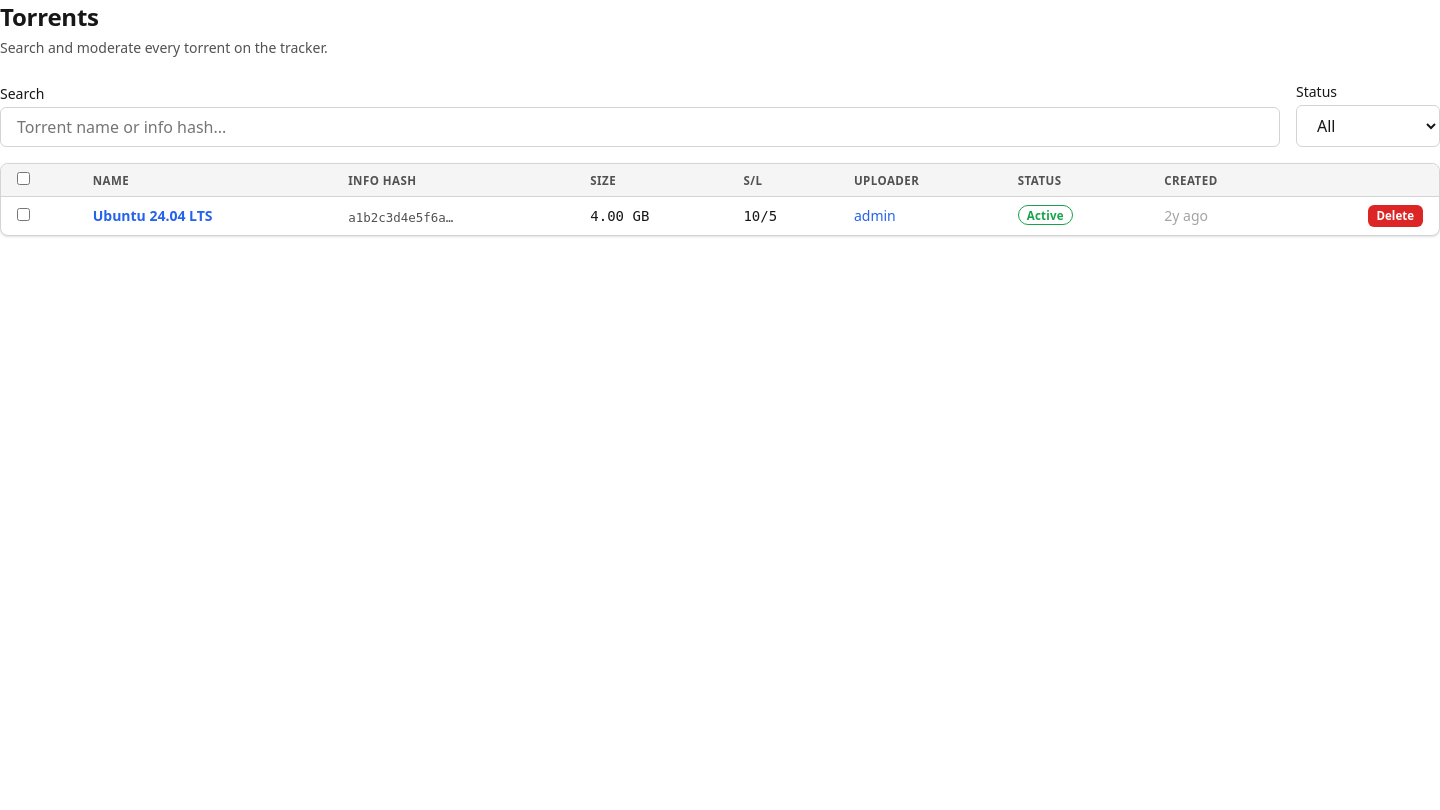
it: AdminTorrentsPage › a rejected bulk request surfaces the server's reason
expect the link "Ubuntu 24.04 LTS" is shown: met, box [93, 206, 213, 225]
Click the checkbox named "Select all on this page". click: (24, 178)
box: [17, 172, 30, 185]
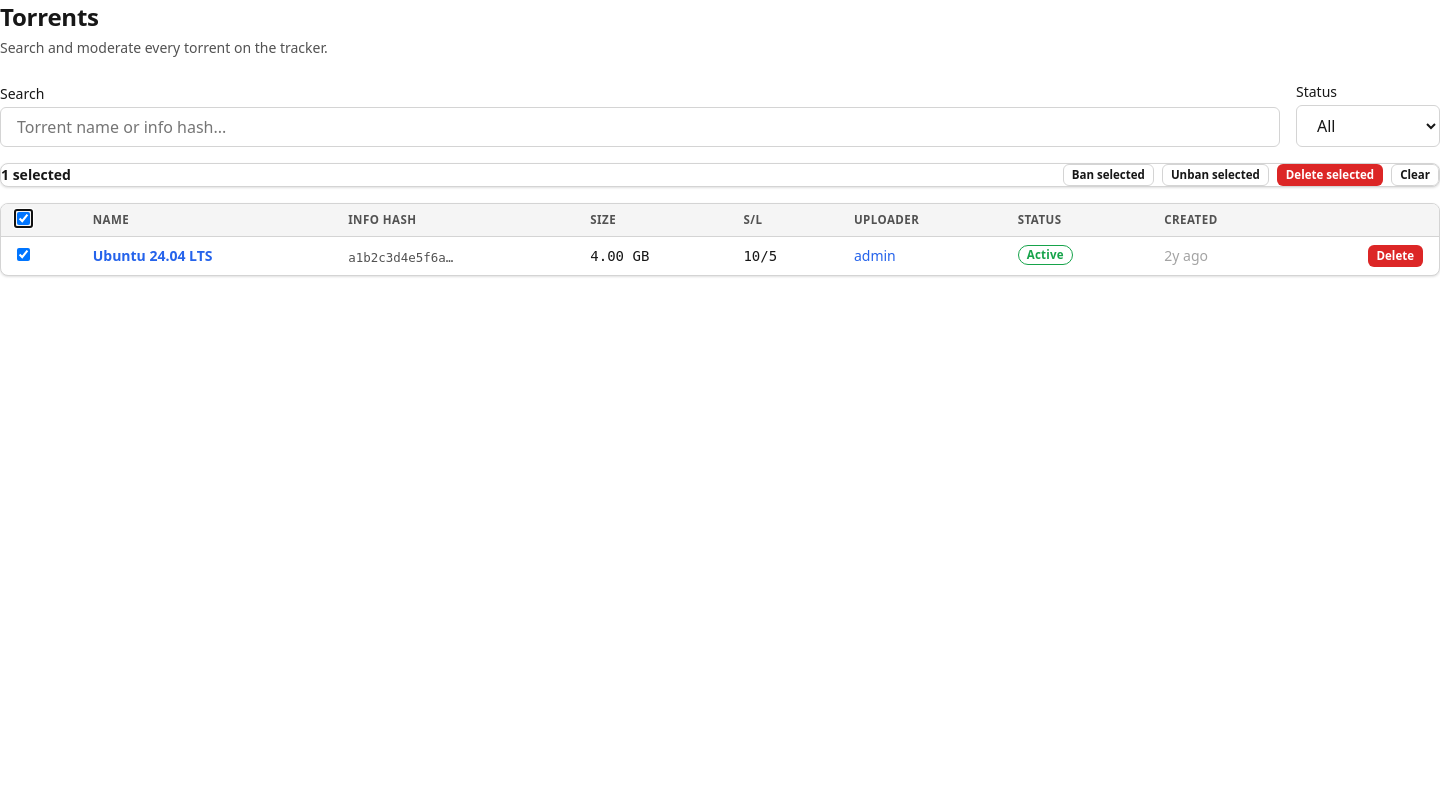
Click the button "Ban selected". click: (1108, 175)
box: [1063, 164, 1154, 186]
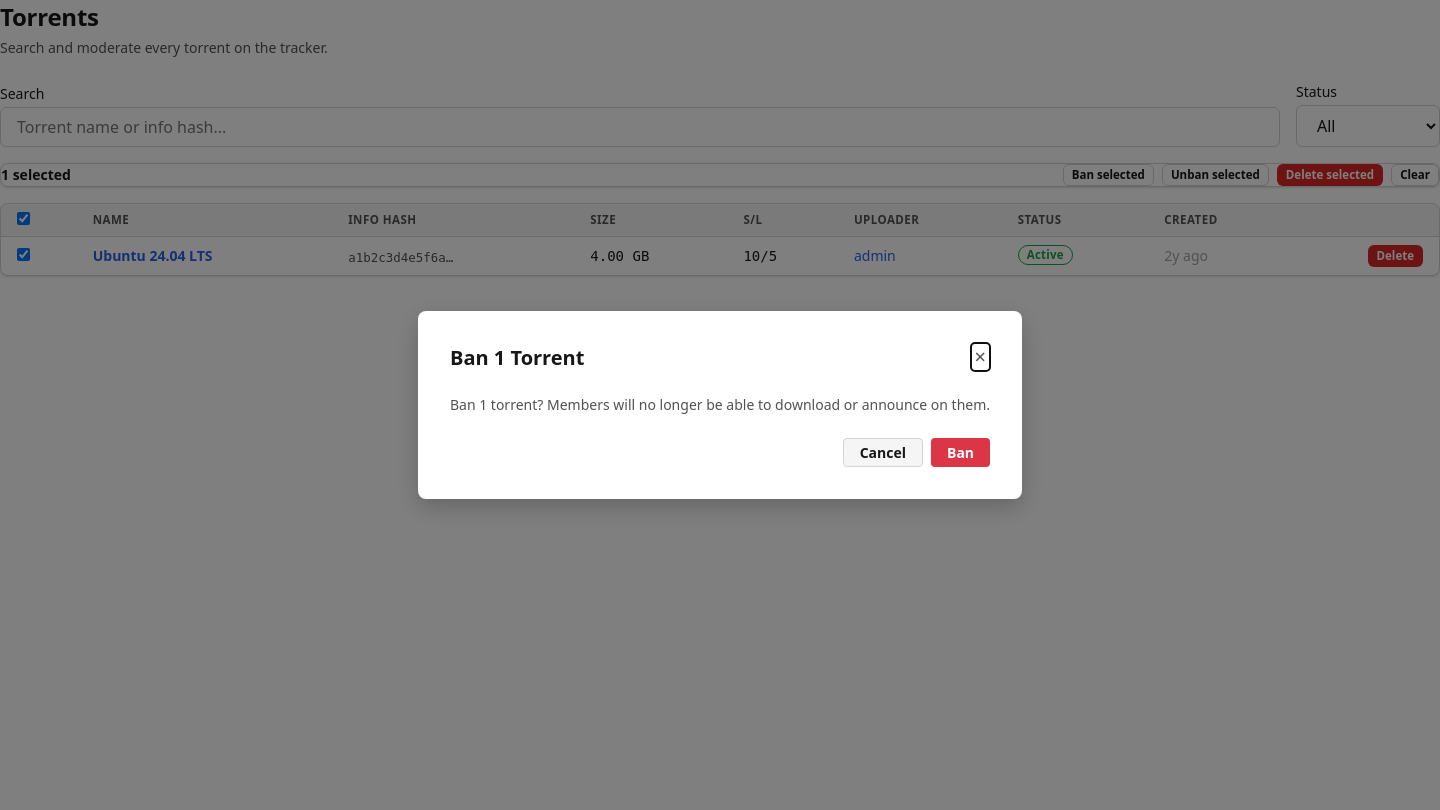
Click the button "Ban". click: (961, 452)
box: [931, 438, 990, 467]
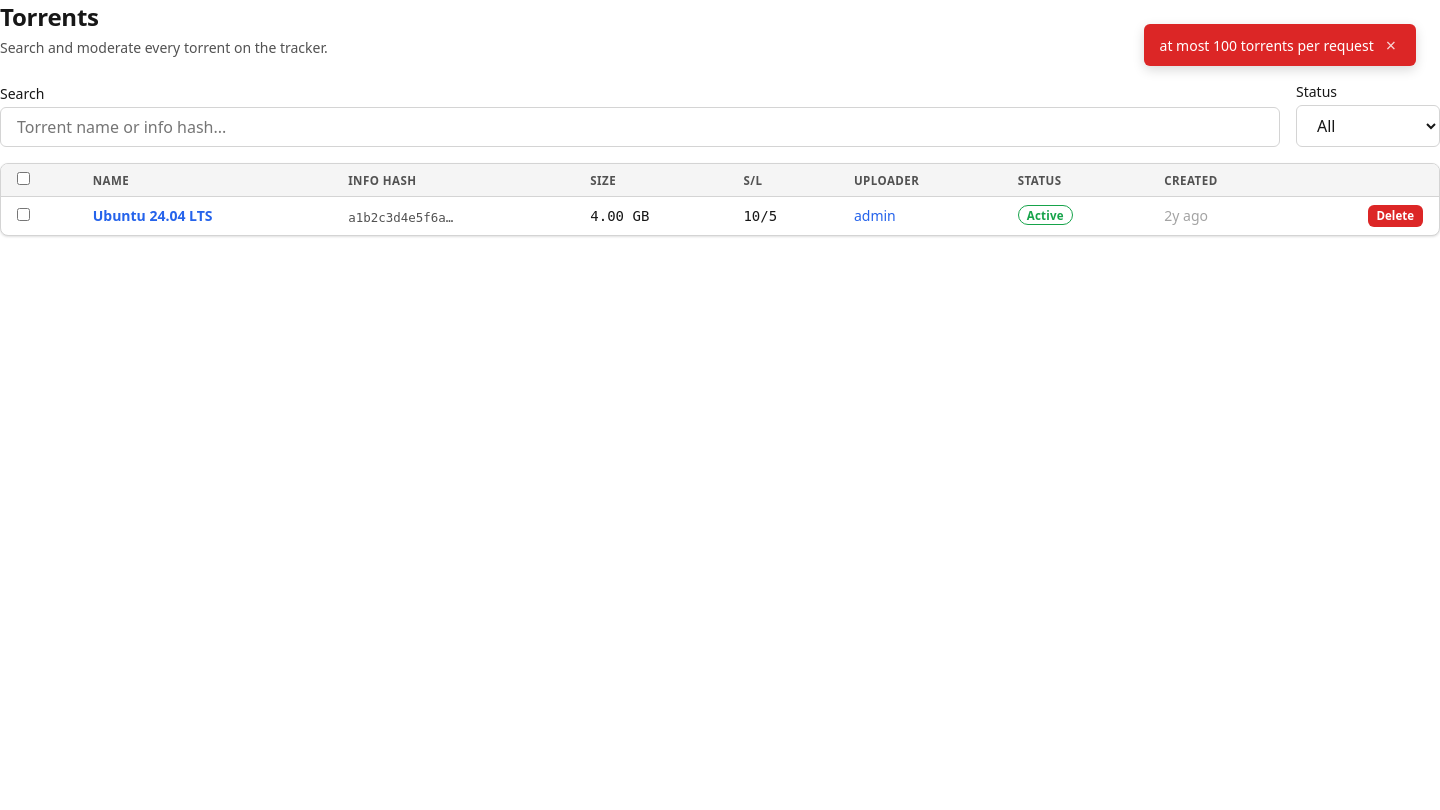
expect the text "at most 100 torrents per request" is shown: met, box [1160, 36, 1374, 54]
